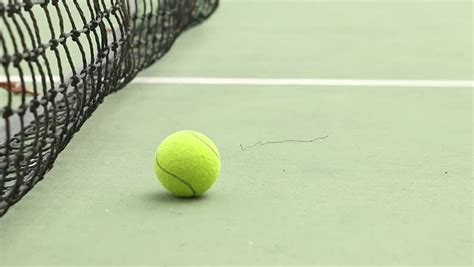tennis_ball: (154, 129, 221, 198)
